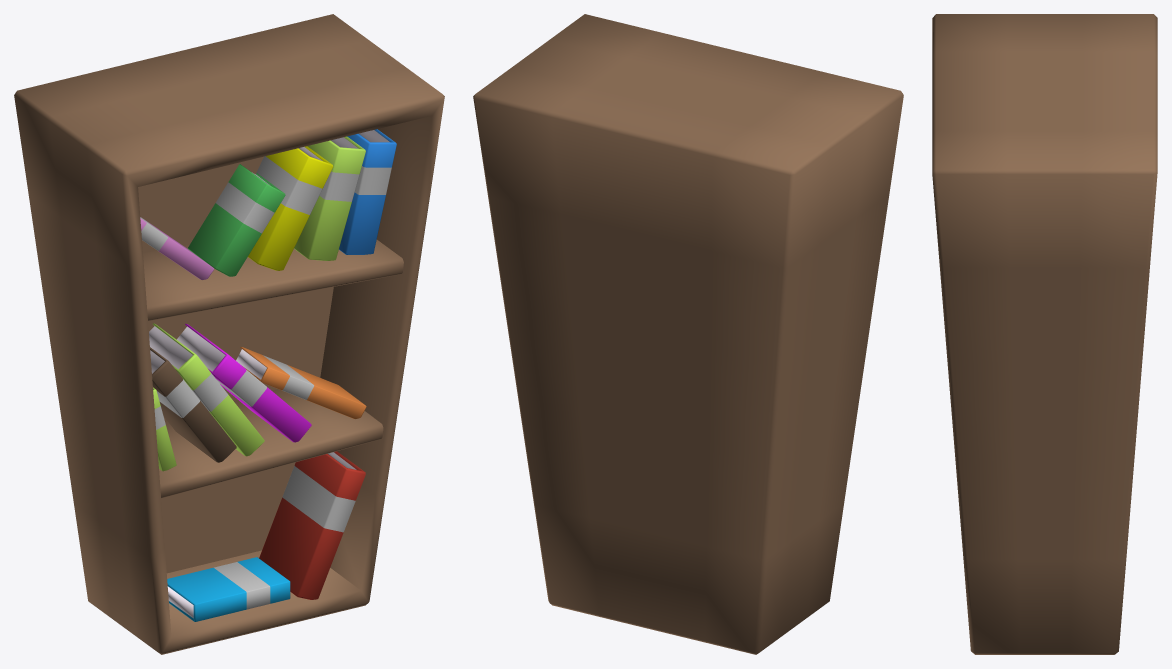
Rendered from props_library.fbx.
3 renders of one model, left to right at view 1: azimuth 30°, elevation 25°; view 2: azimuth 150°, elevation 25°; view 3: azimuth 270°, elevation 25°, orthographic.
Visible parts, largest first — view 1: Library; view 2: Library; view 3: Library.
Boxes of the visible parts, bbox=[...] form: Library: bbox=[14, 14, 444, 654]; Library: bbox=[473, 14, 903, 654]; Library: bbox=[932, 14, 1157, 654].
Bounding box in the file's own units: 1.89 × 1.14 × 2.88.
